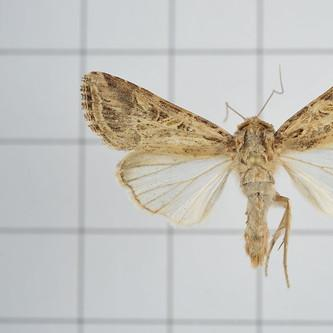Spodoptera litura: (79, 64, 333, 289)
